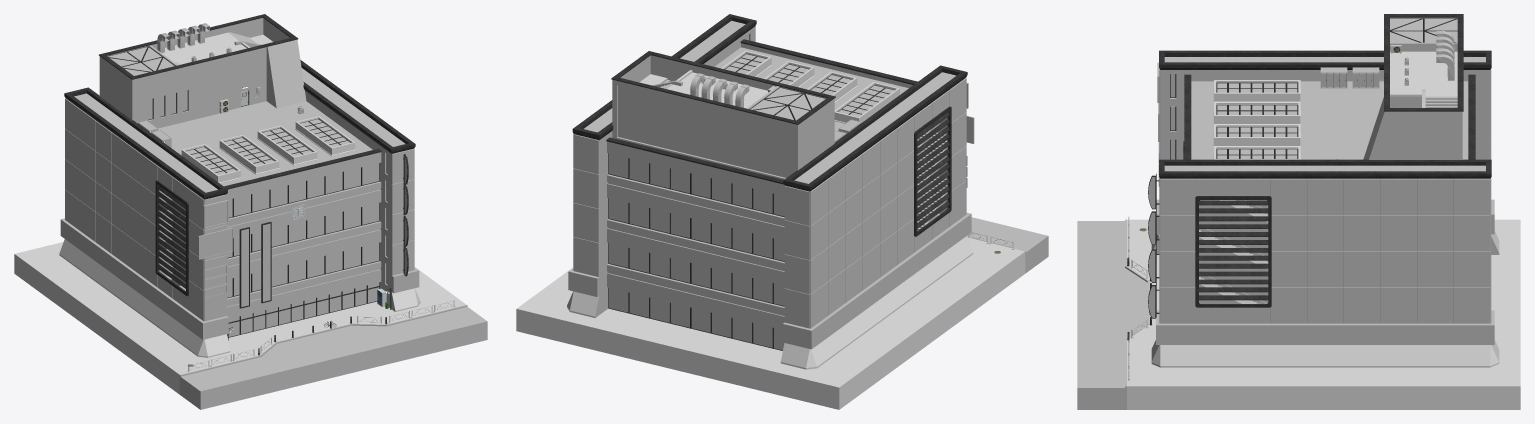
File: KB3D_NTT_BldgMD_E.fbx
The picture shows the model from 3 angles, left to right: view 1: azimuth 30°, elevation 25°; view 2: azimuth 150°, elevation 25°; view 3: azimuth 270°, elevation 25°; orthographic projection. The views are drawn at different scales.
Parts seen in each view (by area): view 1: KB3D_NTT_BldgMD_E_BuildingC, KB3D_NTT_BldgMD_E_Main, KB3D_NTT_BldgMD_E_BuildingD; view 2: KB3D_NTT_BldgMD_E_BuildingC, KB3D_NTT_BldgMD_E_Main, KB3D_NTT_BldgMD_E_BuildingD; view 3: KB3D_NTT_BldgMD_E_BuildingC, KB3D_NTT_BldgMD_E_Main, KB3D_NTT_BldgMD_E_BuildingD.
Boxes of the visible parts, x1=… form: KB3D_NTT_BldgMD_E_BuildingC: x1=59, y1=60, x2=420, y2=357; KB3D_NTT_BldgMD_E_Main: x1=14, y1=242, x2=487, y2=409; KB3D_NTT_BldgMD_E_BuildingD: x1=99, y1=14, x2=306, y2=128; KB3D_NTT_BldgMD_E_BuildingC: x1=567, y1=14, x2=974, y2=369; KB3D_NTT_BldgMD_E_Main: x1=516, y1=217, x2=1048, y2=409; KB3D_NTT_BldgMD_E_BuildingD: x1=611, y1=51, x2=835, y2=179; KB3D_NTT_BldgMD_E_BuildingC: x1=1148, y1=50, x2=1499, y2=367; KB3D_NTT_BldgMD_E_Main: x1=1077, y1=217, x2=1520, y2=409; KB3D_NTT_BldgMD_E_BuildingD: x1=1363, y1=14, x2=1463, y2=159.
Size of the model in its own units: 4529 by 3539 by 5086.
